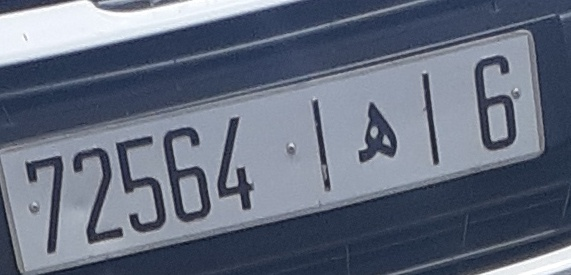2: (70, 147, 124, 244)
4: (213, 115, 258, 214)
5: (114, 134, 168, 234)
6: (162, 124, 213, 225), (471, 53, 520, 151)
7: (22, 154, 67, 256)
h: (354, 98, 404, 165)
